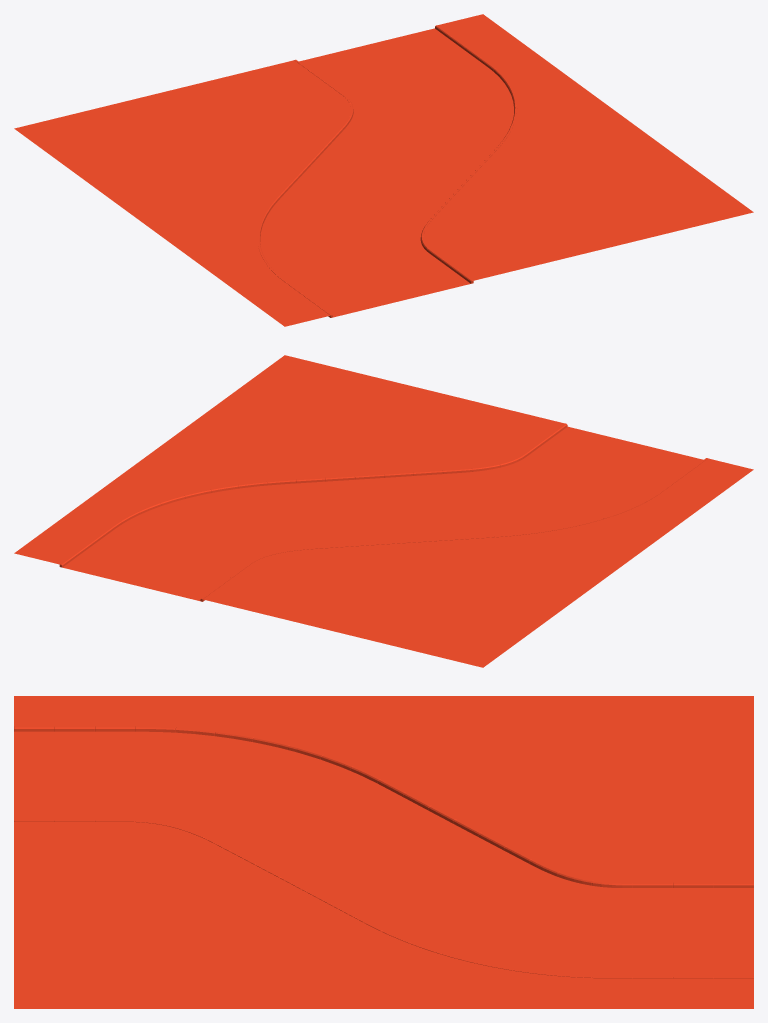
Rendered from SM_Road_Turn_Shift_20x20_City.fbx.
3 views of the same model, one above another, from view 1: azimuth 30°, elevation 25°; view 2: azimuth 150°, elevation 25°; view 3: azimuth 270°, elevation 25° (orthographic). The views are drawn at different scales.
Visible parts, largest first — view 1: SM_Road_Turn_Shift_20x20_City; view 2: SM_Road_Turn_Shift_20x20_City; view 3: SM_Road_Turn_Shift_20x20_City.
Boxes of the visible parts, bbox=[...] form: SM_Road_Turn_Shift_20x20_City: bbox=[14, 14, 753, 326]; SM_Road_Turn_Shift_20x20_City: bbox=[14, 355, 753, 667]; SM_Road_Turn_Shift_20x20_City: bbox=[14, 696, 753, 1008].
Size of the model in its own units: 20 by 0.1084 by 20.
